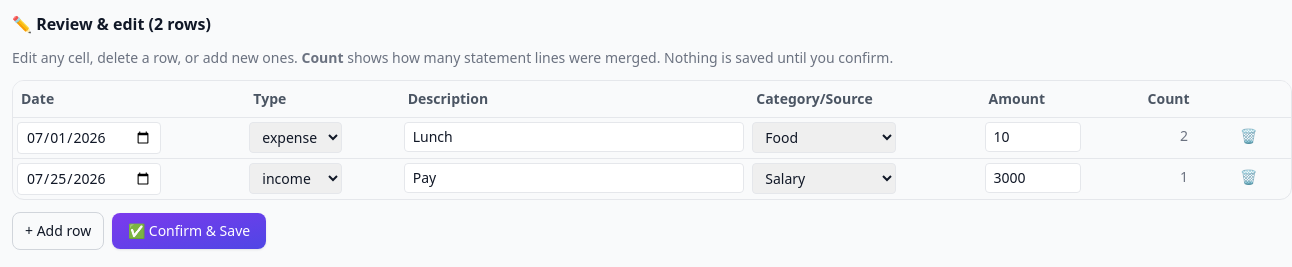
Test: TransactionPreview › deletes a row
This screenshot has width=1292, height=267.
What coordinates should you click on to do the following:
click the button named "Delete row"
I would click on:
 (1249, 136)
Its box is [1232, 122, 1265, 150].
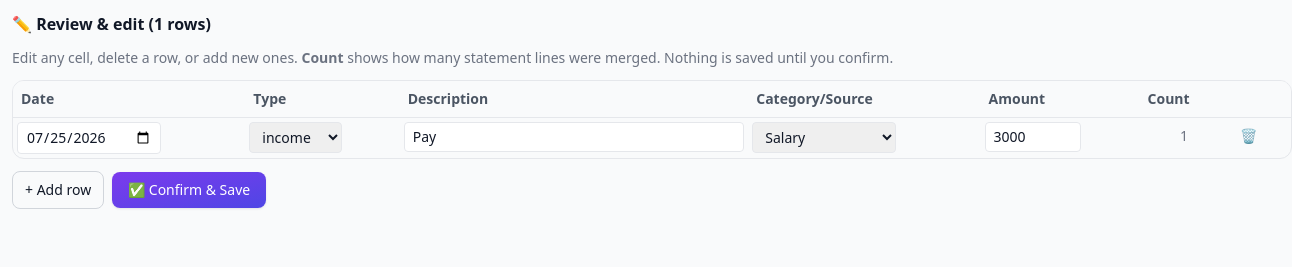
Check: the field showing "Lunch" is not shown
Check: the heading "✏️ Review & edit (1 rows)" is shown, box [12, 13, 211, 35]
